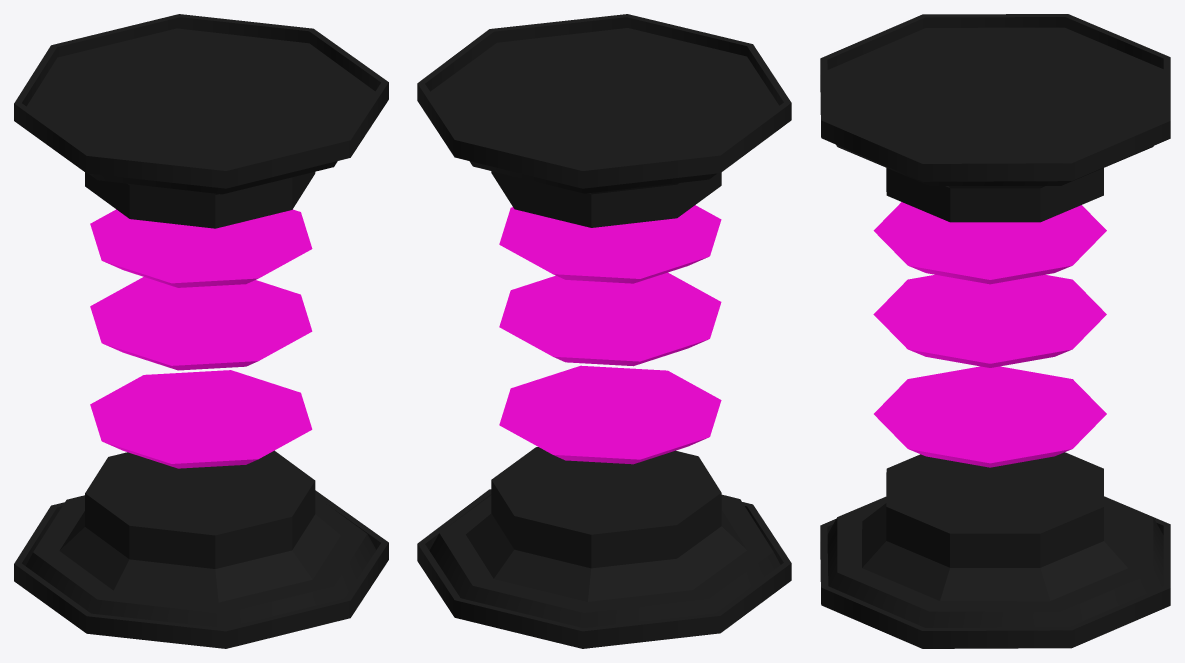
Rendered from relantizador.fbx.
3 renders of one model, left to right at view 1: azimuth 30°, elevation 25°; view 2: azimuth 150°, elevation 25°; view 3: azimuth 270°, elevation 25°, orthographic.
Parts seen in each view (by area): view 1: Cylinder002, Cylinder003; view 2: Cylinder002, Cylinder003; view 3: Cylinder002, Cylinder003.
Boxes of the visible parts, x1,y1,x2,y2 form: Cylinder002: [14, 14, 388, 648]; Cylinder003: [90, 209, 312, 468]; Cylinder002: [417, 14, 791, 648]; Cylinder003: [499, 205, 721, 464]; Cylinder002: [820, 14, 1170, 648]; Cylinder003: [873, 202, 1106, 467].
Bounding box in the file's own units: 35.72 × 35.27 × 53.84.
